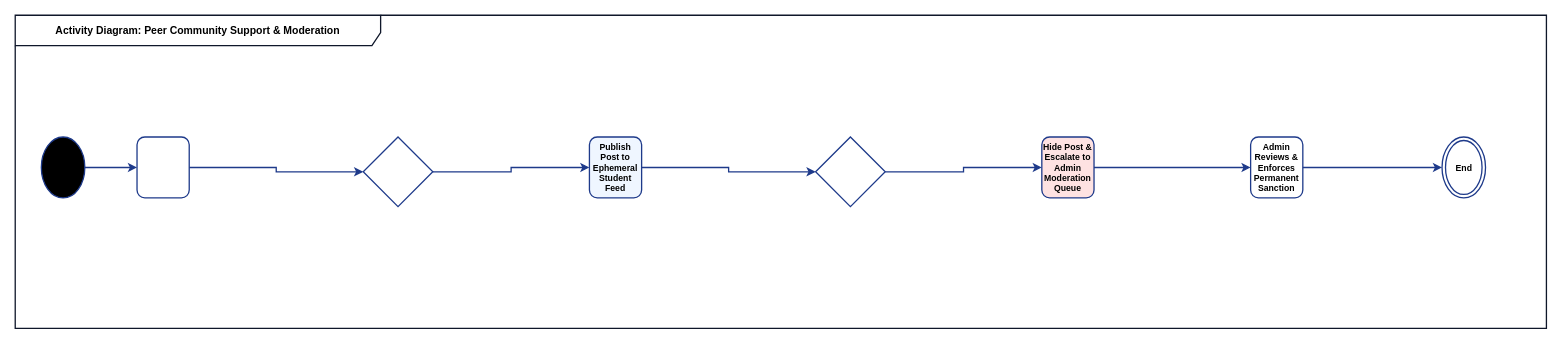
Some shapes in this 1563 by 345 pixel diagram are drawn without their labels. Each missing label, with the centre of its shape:
Client-Side PII & Abuse Regex Filter Check: point 397,171
Draft Anonymous Peer Wellness Experience Post: point 162,167
Evaluate Student Report Flag Threshold (>= 3): point 850,171
